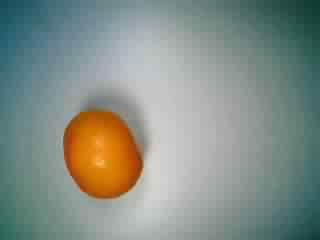orange: (51, 103, 148, 200)
